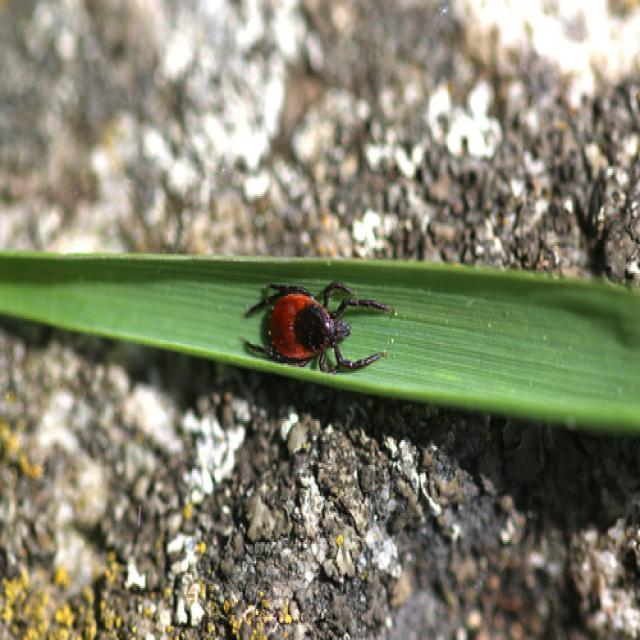Ixodes Ricinus-F: (243, 283, 397, 375)
